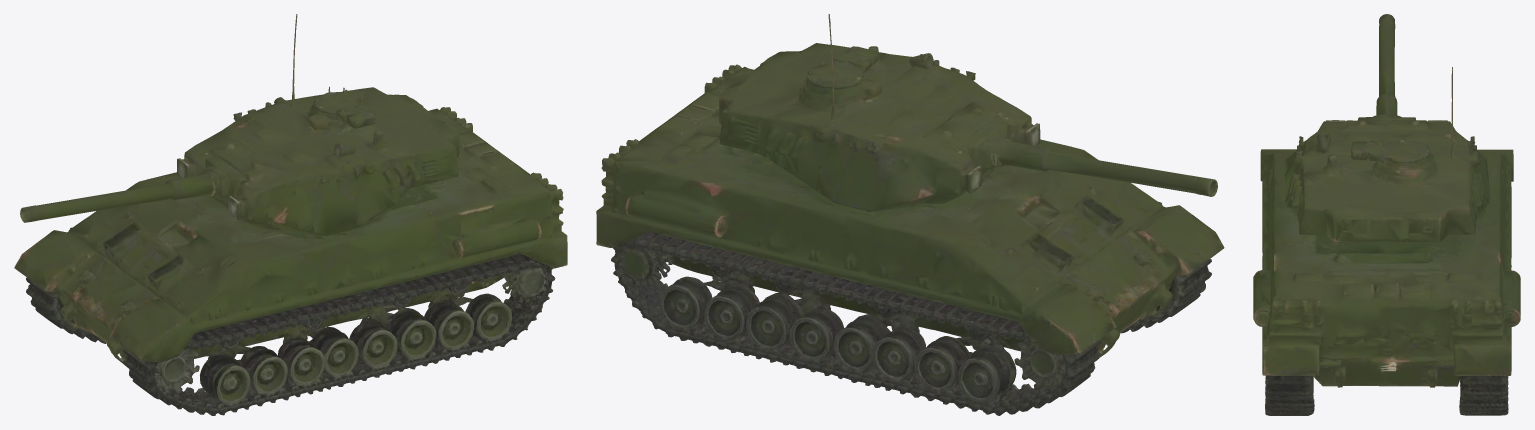
The model's file is tank.glb.
3 views of the same model, side by side, from view 1: azimuth 30°, elevation 25°; view 2: azimuth 150°, elevation 25°; view 3: azimuth 270°, elevation 25° (orthographic). The views are drawn at different scales.
Size of the model in its own units: 1.9 by 1.11 by 0.9168.
1 material, 1 textured.
